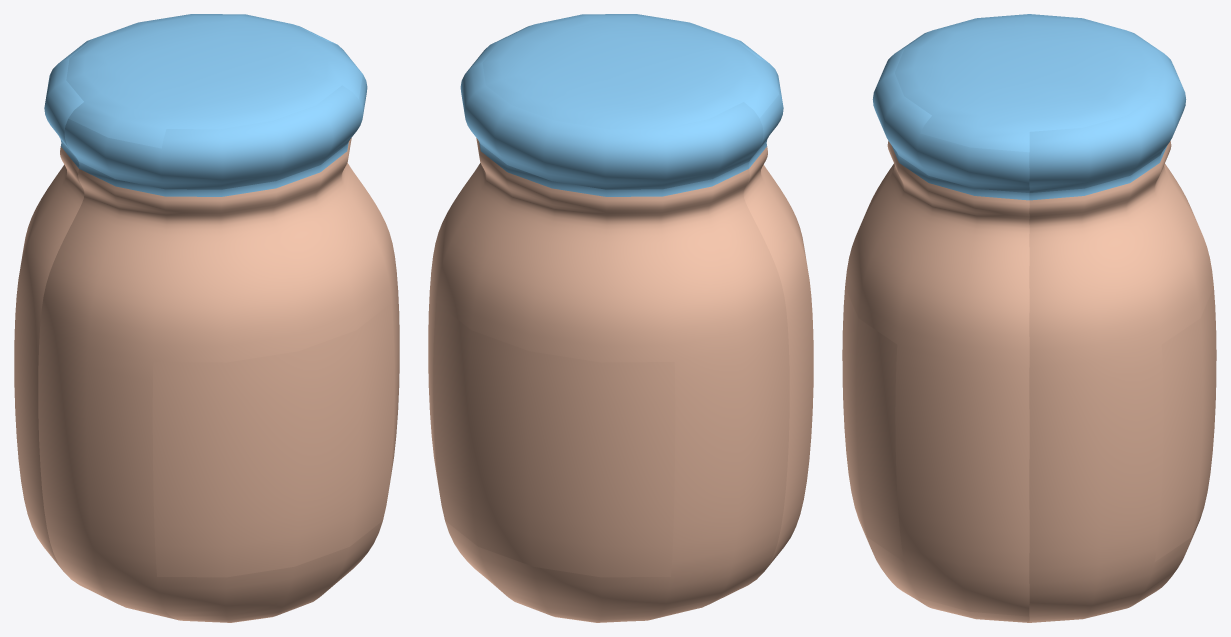
The model's file is ziewniecie.gltf.
The picture shows the model from 3 angles, left to right: view 1: azimuth 30°, elevation 25°; view 2: azimuth 150°, elevation 25°; view 3: azimuth 270°, elevation 25°; orthographic projection.
Parts seen in each view (by area): view 1: Cube.001; view 2: Cube.001; view 3: Cube.001.
Boxes of the visible parts, <box> form: Cube.001: <box>14,14,399,622</box>; Cube.001: <box>428,14,813,622</box>; Cube.001: <box>842,14,1216,622</box>.
Size of the model in its own units: 1.19 by 1.75 by 1.14.
Materials: 1 (1 with a texture image).
